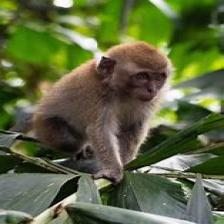monkey: (28, 35, 169, 186)
